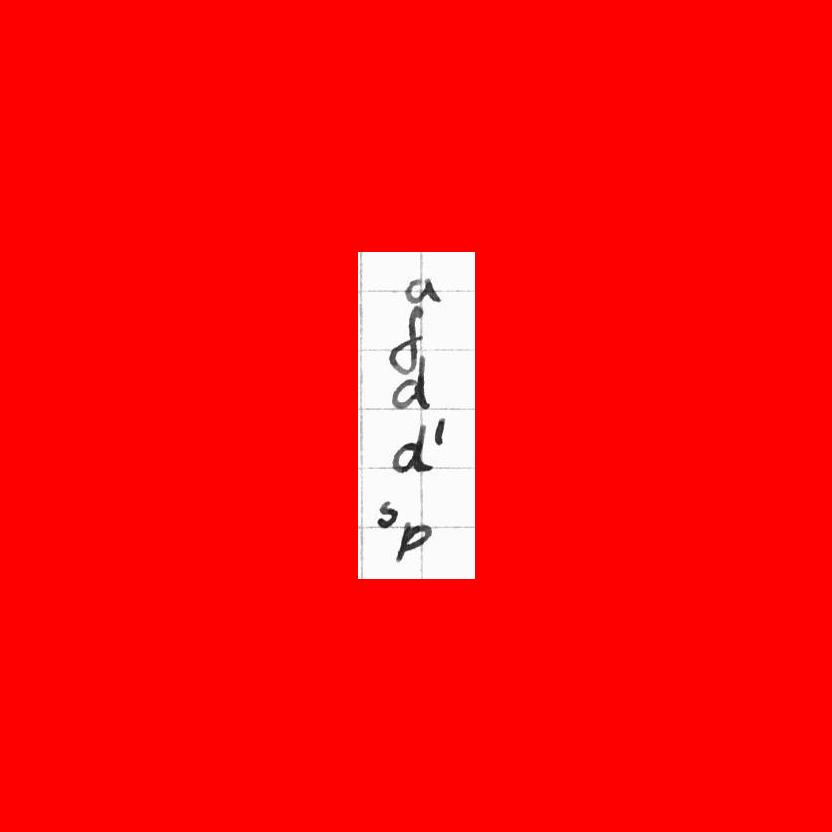Char: (387, 305, 428, 376), (391, 354, 431, 411), (391, 420, 432, 475), (394, 518, 433, 563), (401, 273, 441, 305), (373, 494, 400, 532), (433, 414, 449, 447)
